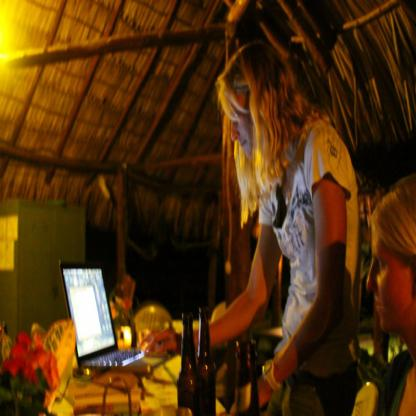board: (59, 258, 144, 368), (178, 312, 201, 416), (195, 308, 215, 416), (230, 338, 254, 416), (247, 335, 259, 416)
